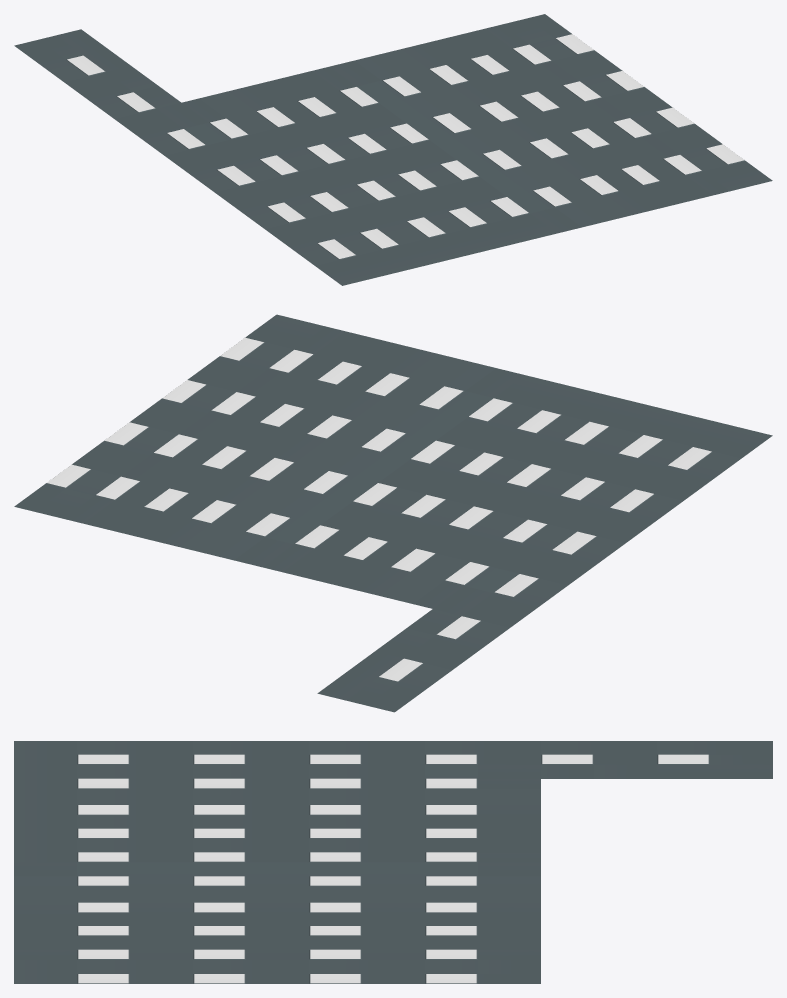
File: SM_Ceiling_VR.fbx
The picture shows the model from 3 angles, top to bottom: view 1: azimuth 30°, elevation 25°; view 2: azimuth 150°, elevation 25°; view 3: azimuth 270°, elevation 25°; orthographic projection. The views are drawn at different scales.
Parts seen in each view (by area): view 1: SM_Ceiling_VR; view 2: SM_Ceiling_VR; view 3: SM_Ceiling_VR.
Part boxes in pixels (x1,y1,x2,y2): SM_Ceiling_VR: (14,14,772,285); SM_Ceiling_VR: (14,314,772,712); SM_Ceiling_VR: (14,741,772,983).
Size of the model in its own units: 1742 by 1.47 by 2300.
2 materials, 2 textured.
